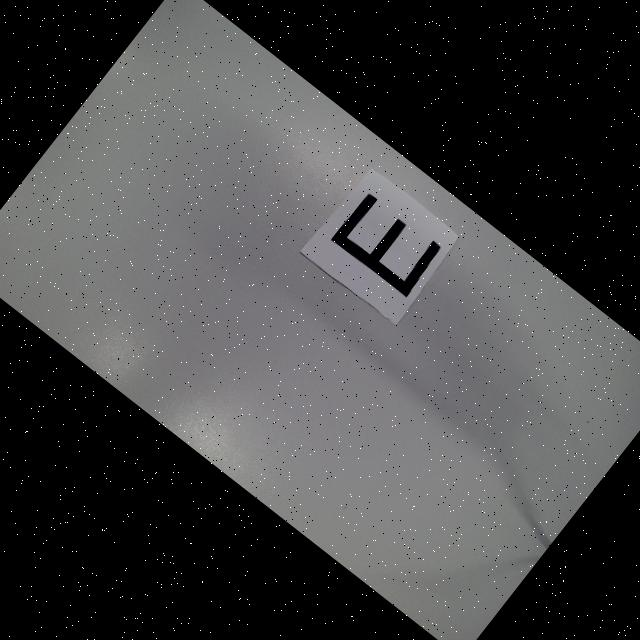FAKE: (330, 190, 445, 299)
